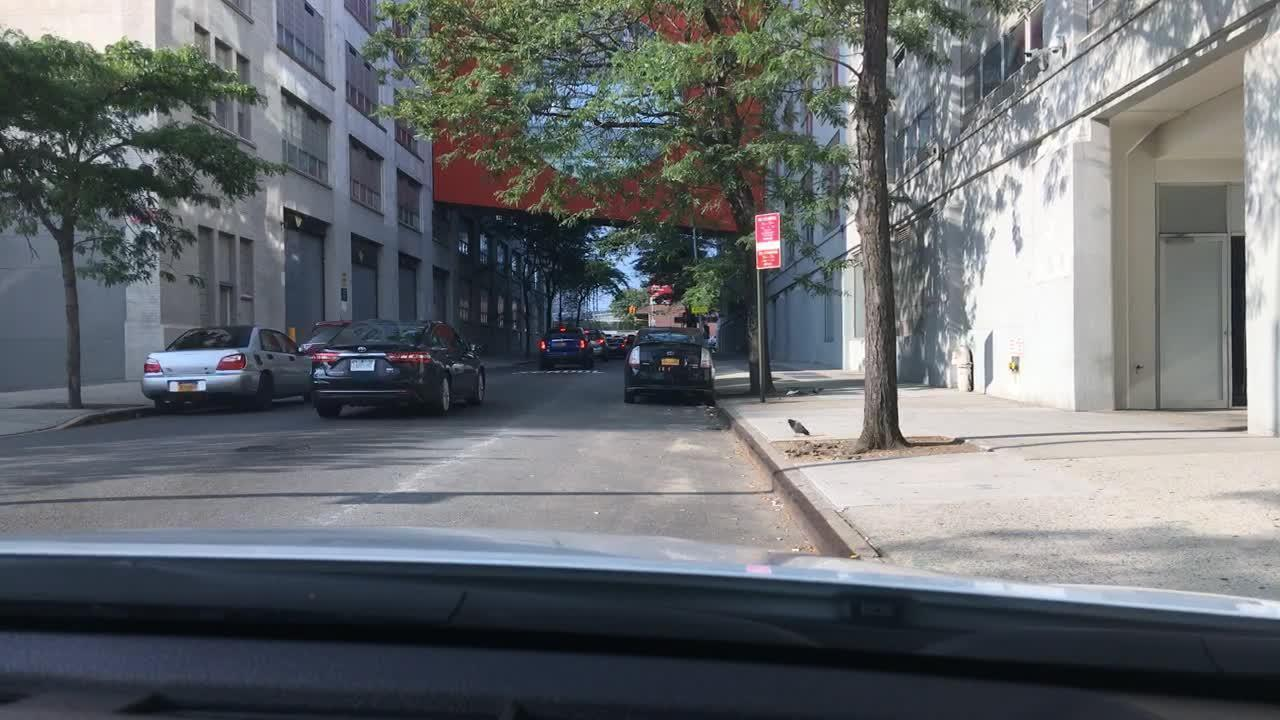ford: (354, 343, 371, 356)
